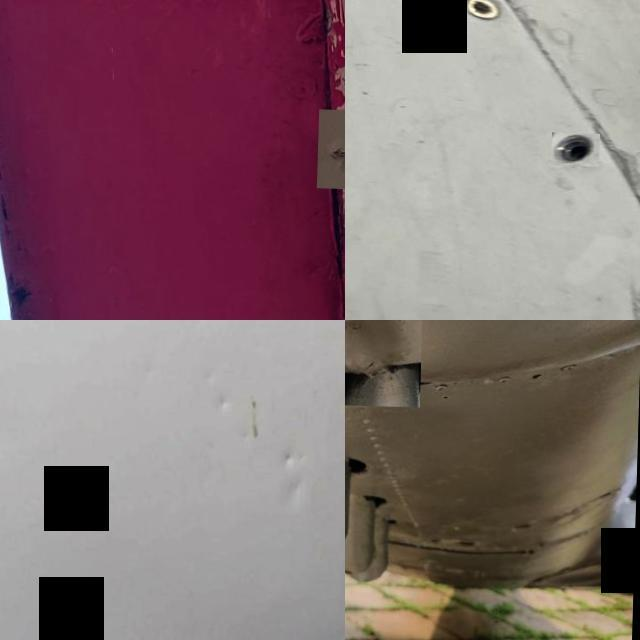Dent: (345, 320, 425, 404), (279, 474, 310, 505), (283, 449, 298, 462), (218, 393, 231, 408), (241, 427, 253, 439), (300, 449, 309, 459), (207, 369, 216, 378)
Missing_Fastener: (553, 130, 602, 164)
